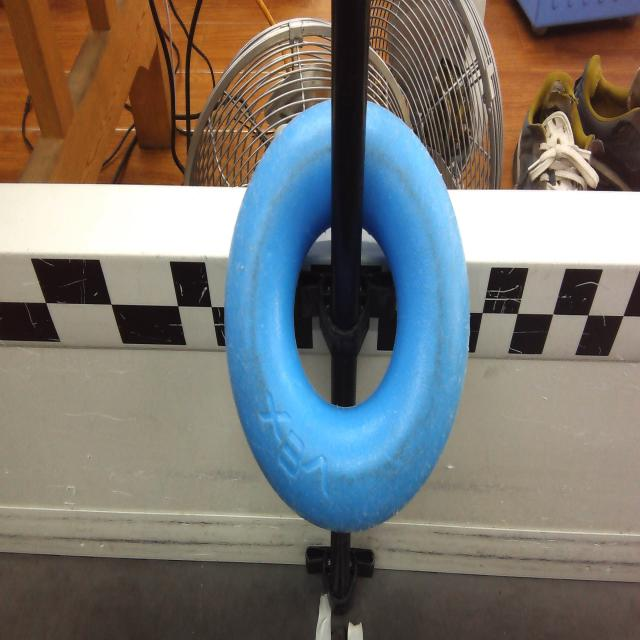Blue-Ring: (224, 102, 471, 532)
